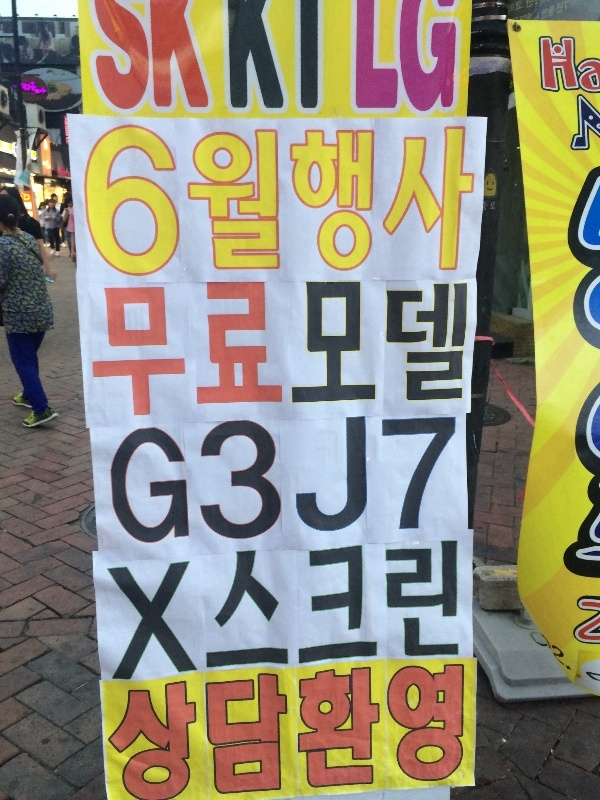text: (81, 119, 96, 288), (97, 119, 112, 288), (113, 119, 128, 288), (129, 119, 144, 288), (145, 119, 160, 288), (161, 119, 176, 288), (177, 119, 192, 288), (193, 119, 208, 288), (209, 119, 224, 288), (225, 119, 240, 288), (241, 119, 256, 288), (257, 119, 272, 288), (273, 119, 288, 288), (289, 119, 304, 288), (305, 119, 320, 288), (321, 119, 336, 288), (337, 119, 352, 288), (353, 119, 368, 288), (369, 119, 384, 288), (385, 119, 400, 288), (401, 119, 416, 288), (417, 119, 432, 288), (433, 119, 448, 288), (449, 119, 464, 288), (97, 530, 112, 689), (113, 530, 128, 689), (129, 530, 144, 689), (145, 530, 160, 689), (161, 530, 176, 689), (177, 530, 192, 689), (193, 530, 208, 689), (209, 530, 224, 689), (225, 530, 240, 689), (241, 530, 256, 689), (257, 530, 272, 689), (273, 530, 288, 689), (289, 530, 304, 689), (305, 530, 320, 689), (321, 530, 336, 689), (337, 530, 352, 689), (353, 530, 368, 689), (369, 530, 384, 689), (385, 530, 400, 689), (401, 530, 416, 689), (417, 530, 432, 689), (433, 530, 448, 689), (449, 530, 464, 689), (97, 274, 112, 429), (113, 274, 128, 429), (129, 274, 144, 429), (145, 274, 160, 429), (161, 274, 176, 429), (177, 274, 192, 429), (193, 274, 208, 429), (209, 274, 224, 429), (225, 274, 240, 429), (241, 274, 256, 429), (257, 274, 272, 429), (273, 274, 288, 429), (289, 274, 304, 429), (305, 274, 320, 429), (321, 274, 336, 429), (337, 274, 352, 429), (353, 274, 368, 429), (369, 274, 384, 429), (385, 274, 400, 429), (401, 274, 416, 429), (417, 274, 432, 429), (433, 274, 448, 429), (449, 274, 464, 429), (113, 405, 128, 556), (129, 405, 144, 556), (145, 405, 160, 556), (161, 405, 176, 556), (177, 405, 192, 556), (193, 405, 208, 556), (209, 405, 224, 556), (225, 405, 240, 556), (241, 405, 256, 556), (257, 405, 272, 556), (273, 405, 288, 556), (289, 405, 304, 556), (305, 405, 320, 556), (321, 405, 336, 556), (337, 405, 352, 556), (353, 405, 368, 556), (369, 405, 384, 556), (385, 405, 400, 556), (401, 405, 416, 556), (417, 405, 432, 556), (433, 405, 448, 556), (113, 660, 128, 796), (129, 660, 144, 796), (145, 660, 160, 796), (161, 660, 176, 796), (177, 660, 192, 796), (193, 660, 208, 796), (209, 660, 224, 796), (225, 660, 240, 796), (241, 660, 256, 796), (257, 660, 272, 796), (273, 660, 288, 796), (289, 660, 304, 796), (305, 660, 320, 796), (321, 660, 336, 796), (337, 660, 352, 796), (353, 660, 368, 796), (369, 660, 384, 796), (385, 660, 400, 796), (401, 660, 416, 796), (417, 660, 432, 796), (433, 660, 448, 796), (449, 660, 464, 796), (465, 119, 477, 288), (99, 405, 112, 556), (84, 274, 96, 429), (449, 2, 465, 118), (99, 660, 112, 796), (353, 2, 368, 118), (369, 2, 384, 118), (385, 2, 400, 118), (401, 2, 416, 118), (417, 2, 432, 118), (433, 2, 448, 118), (97, 1, 112, 114), (113, 1, 128, 114), (129, 1, 144, 114), (145, 1, 160, 114), (161, 1, 176, 114), (177, 1, 192, 114), (193, 1, 208, 114), (209, 1, 224, 114), (225, 1, 240, 114), (241, 1, 256, 114), (257, 1, 272, 114), (273, 1, 288, 114), (289, 1, 304, 114), (305, 1, 320, 114), (449, 405, 460, 556), (465, 660, 477, 796), (82, 1, 96, 114), (465, 274, 475, 429), (465, 530, 472, 689), (545, 34, 560, 98), (561, 34, 576, 98), (577, 34, 592, 98), (321, 1, 328, 114), (536, 34, 544, 98), (77, 119, 80, 288), (348, 2, 352, 118), (593, 34, 600, 98), (33, 79, 49, 99), (94, 530, 96, 689), (22, 192, 32, 220), (482, 197, 496, 216), (19, 79, 32, 99), (55, 163, 64, 180), (65, 163, 72, 180), (33, 192, 36, 220), (497, 197, 499, 216)
